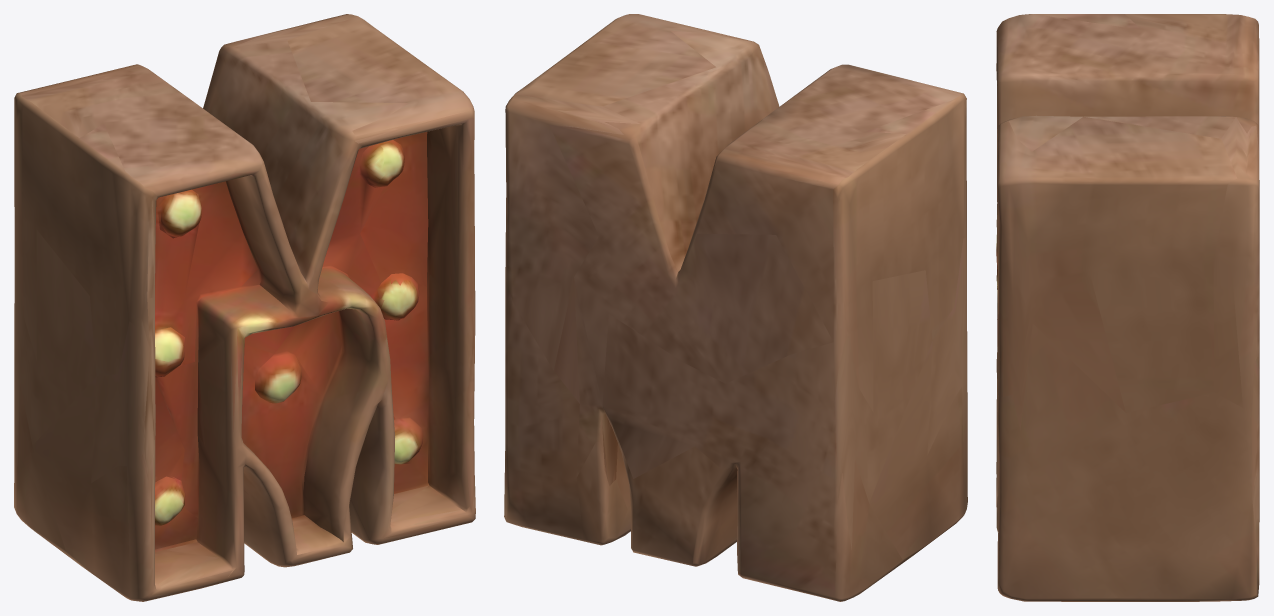
The model's file is letter_m_idle.glb.
The picture shows the model from 3 angles, left to right: view 1: azimuth 30°, elevation 25°; view 2: azimuth 150°, elevation 25°; view 3: azimuth 270°, elevation 25°; orthographic projection.
Parts seen in each view (by area): view 1: tmp_letters_partial_l_s_01; view 2: tmp_letters_partial_l_s_01; view 3: tmp_letters_partial_l_s_01.
Part boxes in pixels (x1,y1,x2,y2): tmp_letters_partial_l_s_01: (14,14,475,601); tmp_letters_partial_l_s_01: (504,14,967,601); tmp_letters_partial_l_s_01: (996,14,1259,601).
Size of the model in its own units: 0.8442 by 0.9989 by 0.5605.
Materials: 1 (1 with a texture image).
